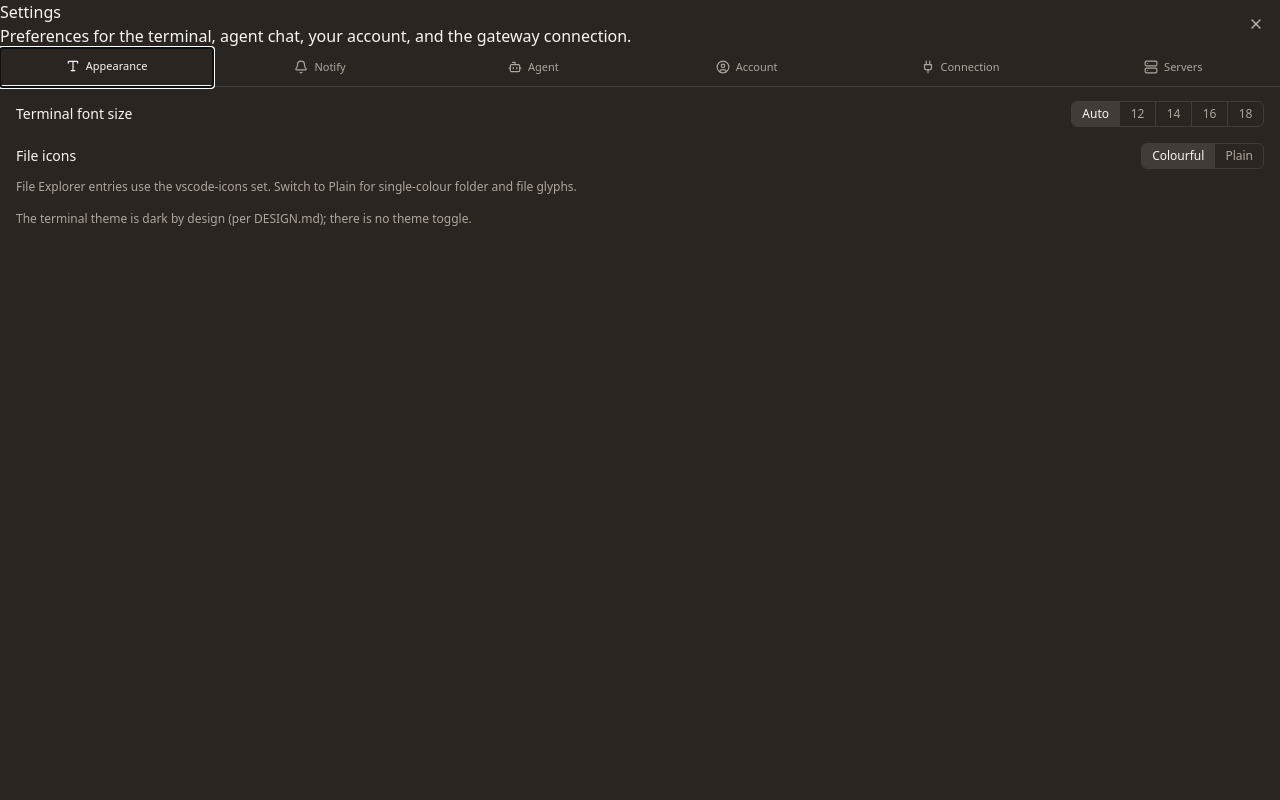
Test: SettingsDialog › shows sign out with a username on the Account tab
Click the tab "Account" at (747, 67), box top-left (640, 48), bottom-right (853, 86)
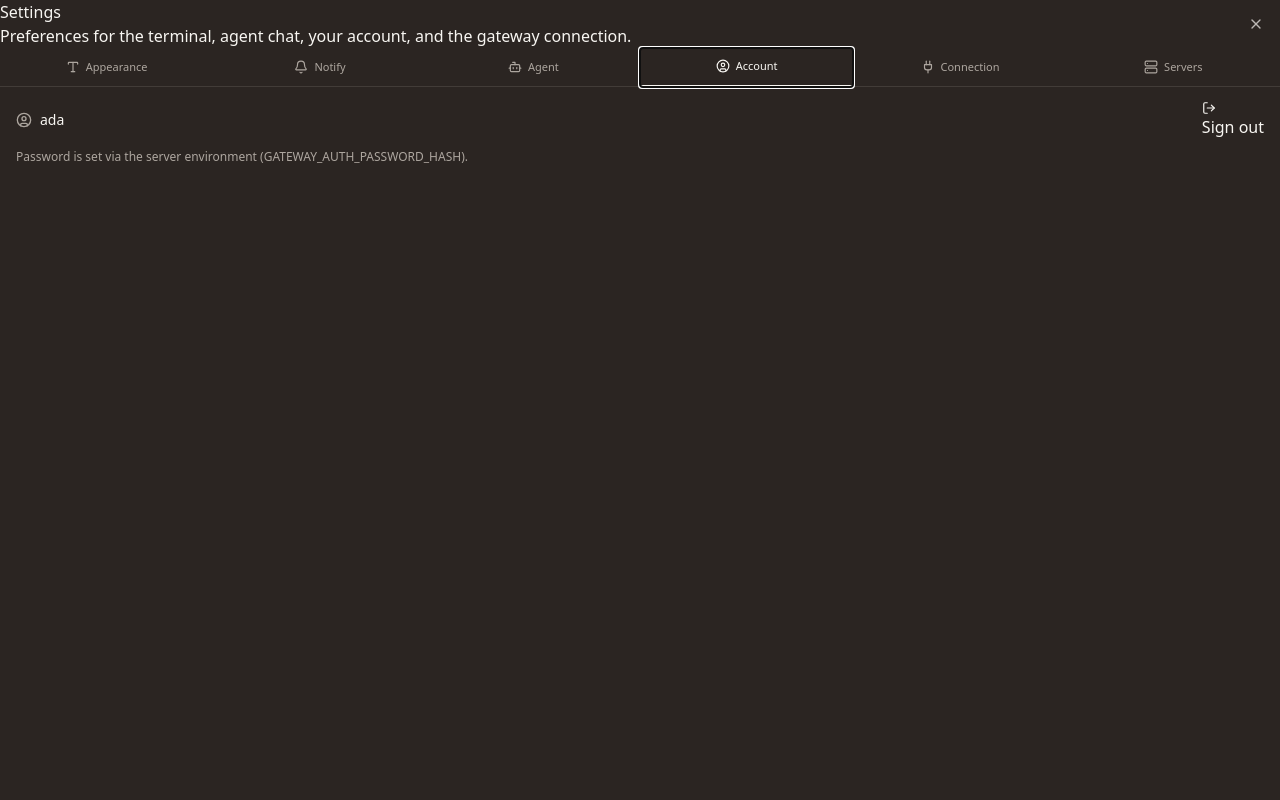
Check: the text "ada" is shown, box top-left (40, 110), bottom-right (64, 130)
Check: the button "Sign out" is shown, box top-left (1202, 100), bottom-right (1264, 138)
